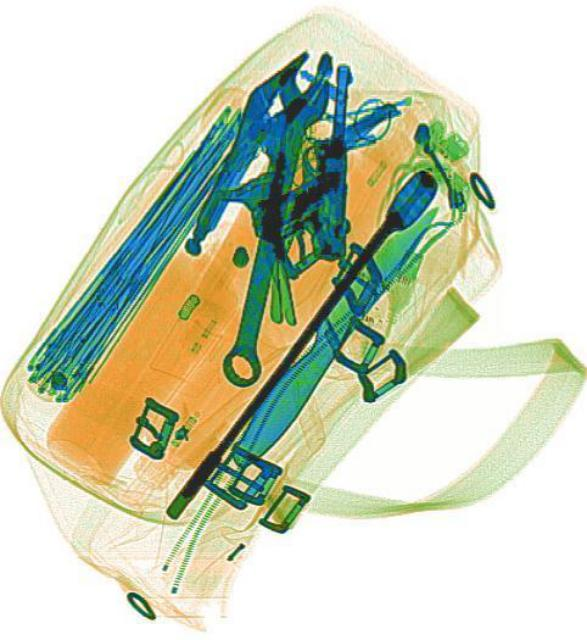Gun: (250, 58, 353, 258)
Knife: (221, 193, 446, 471)
Wrench: (213, 61, 328, 390)
